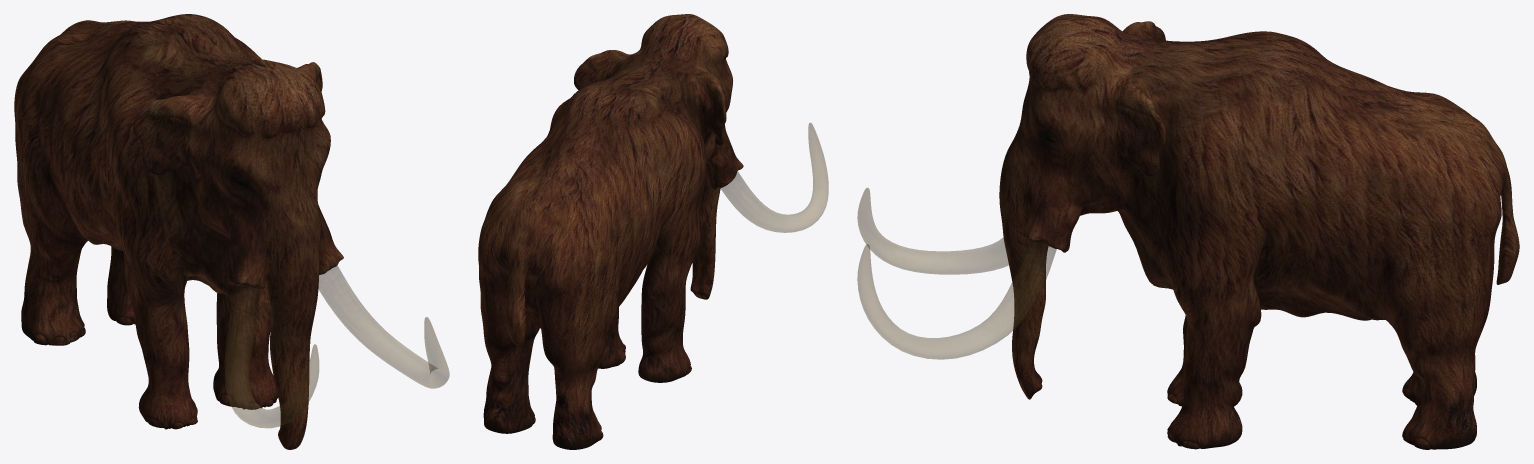
File: Mamoth.glb
3 views of the same model, side by side, from view 1: azimuth 30°, elevation 25°; view 2: azimuth 150°, elevation 25°; view 3: azimuth 270°, elevation 25° (orthographic). The views are drawn at different scales.
Visible parts, largest first — view 1: mammmoth; view 2: mammmoth; view 3: mammmoth.
Part boxes in pixels (x1=…): mammmoth: x1=14, y1=14, x2=449, y2=449; mammmoth: x1=478, y1=14, x2=828, y2=449; mammmoth: x1=857, y1=14, x2=1519, y2=449.
Size of the model in its own units: 1.3 by 2.51 by 3.76.
Materials: 2 (2 with a texture image).
